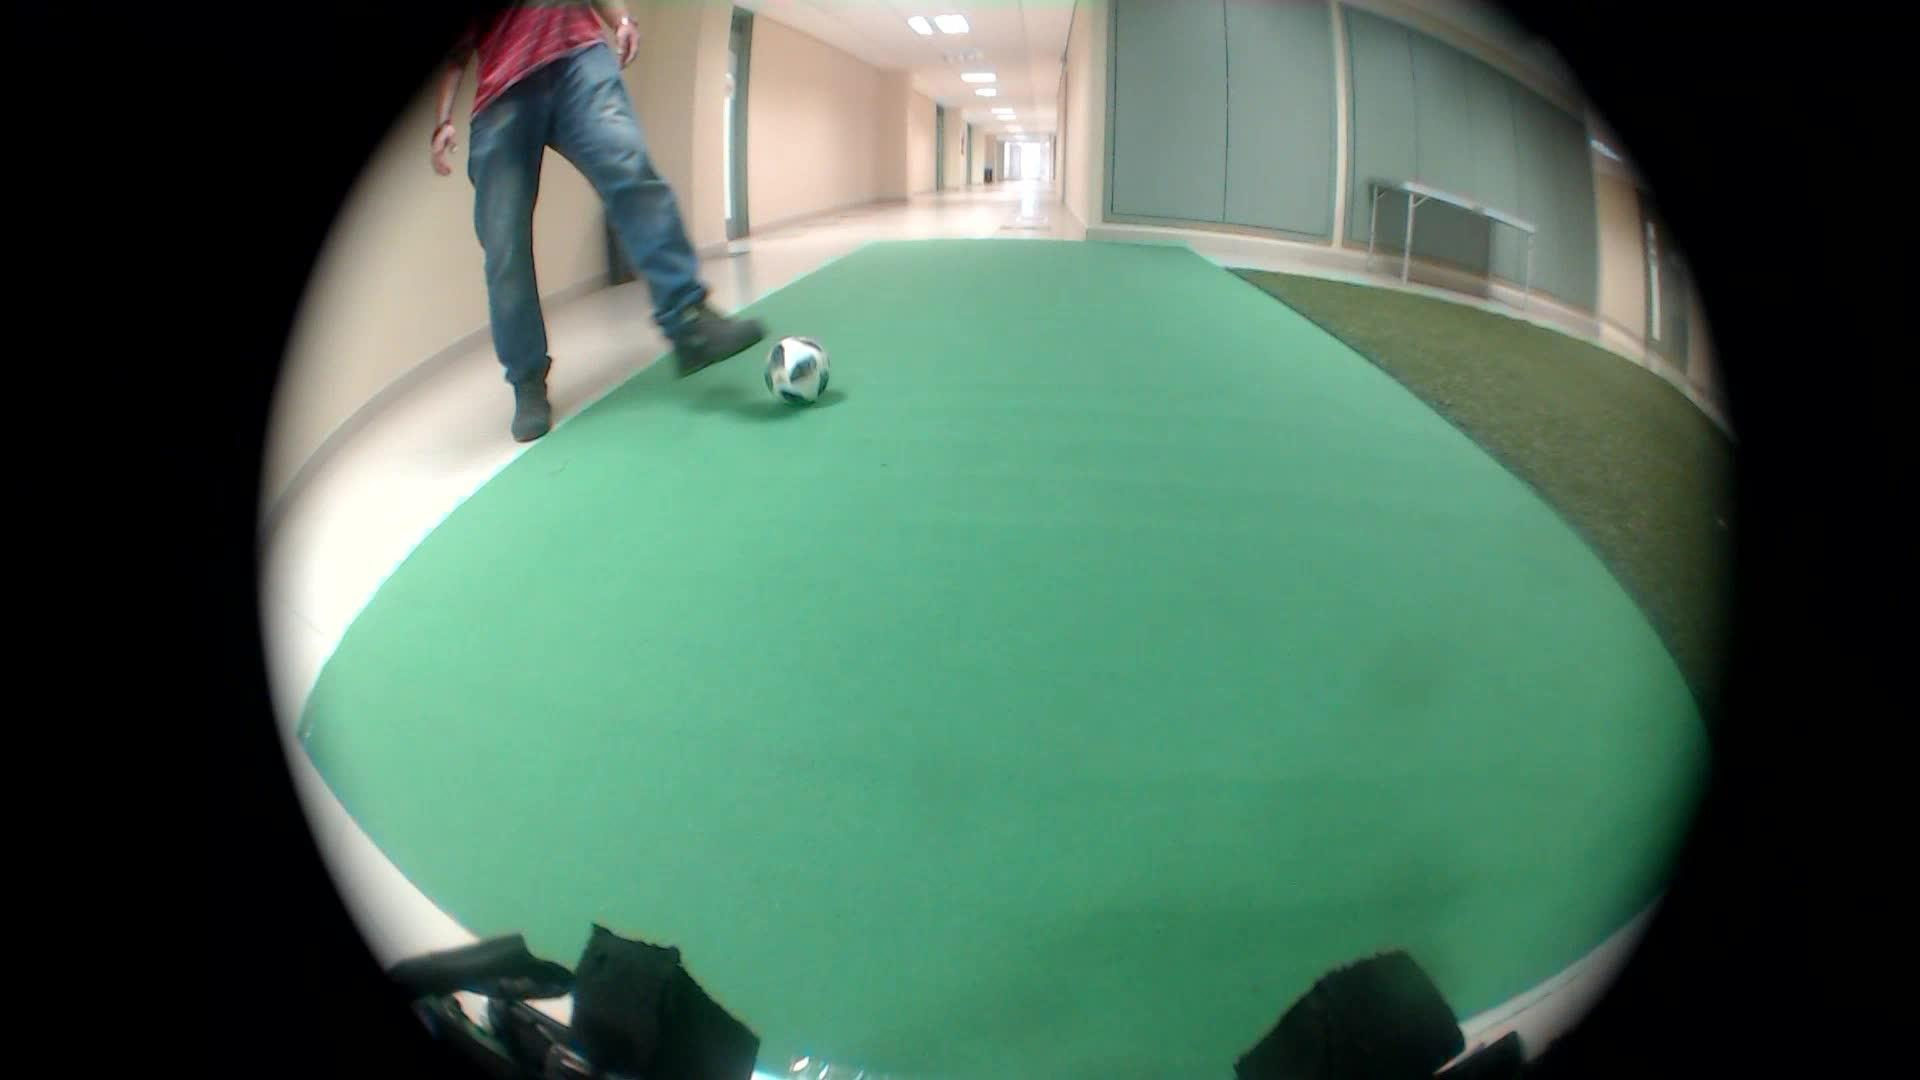ball: (753, 328, 848, 411)
